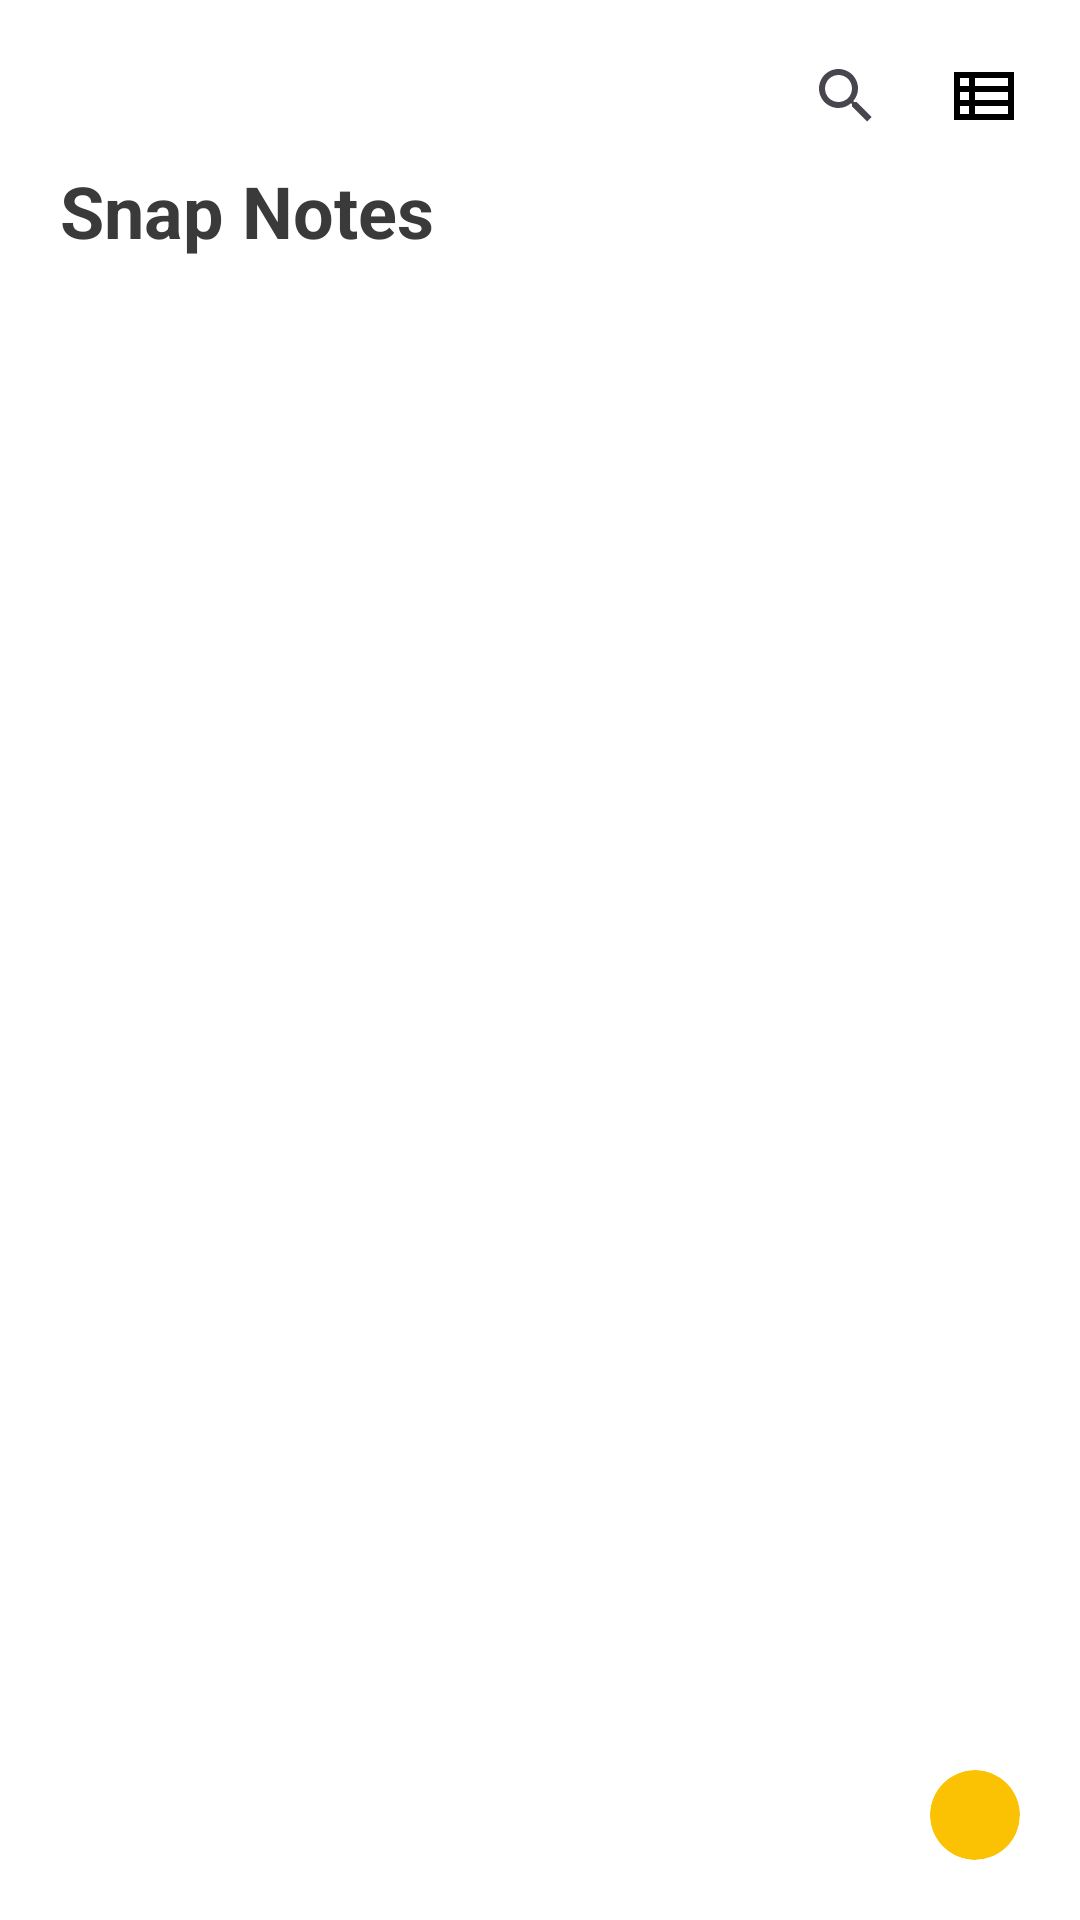

Icon bounding boxes for this 1080px x 1920px phone screenshot, format rect(x1, y1, x2, y2):
view list: rect(954, 72, 1014, 120)
